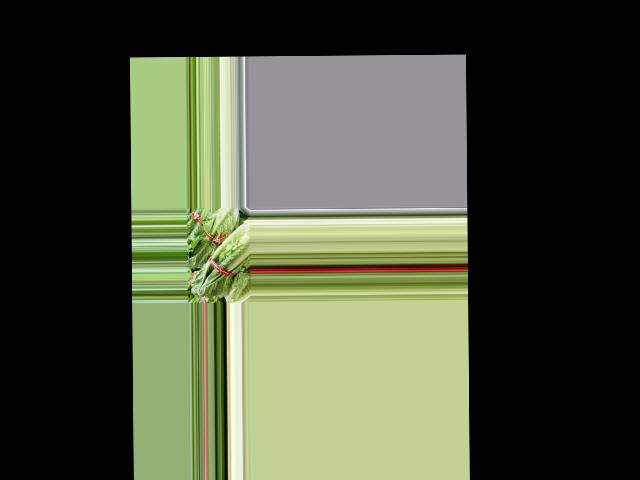lettuce: (189, 220, 251, 298)
